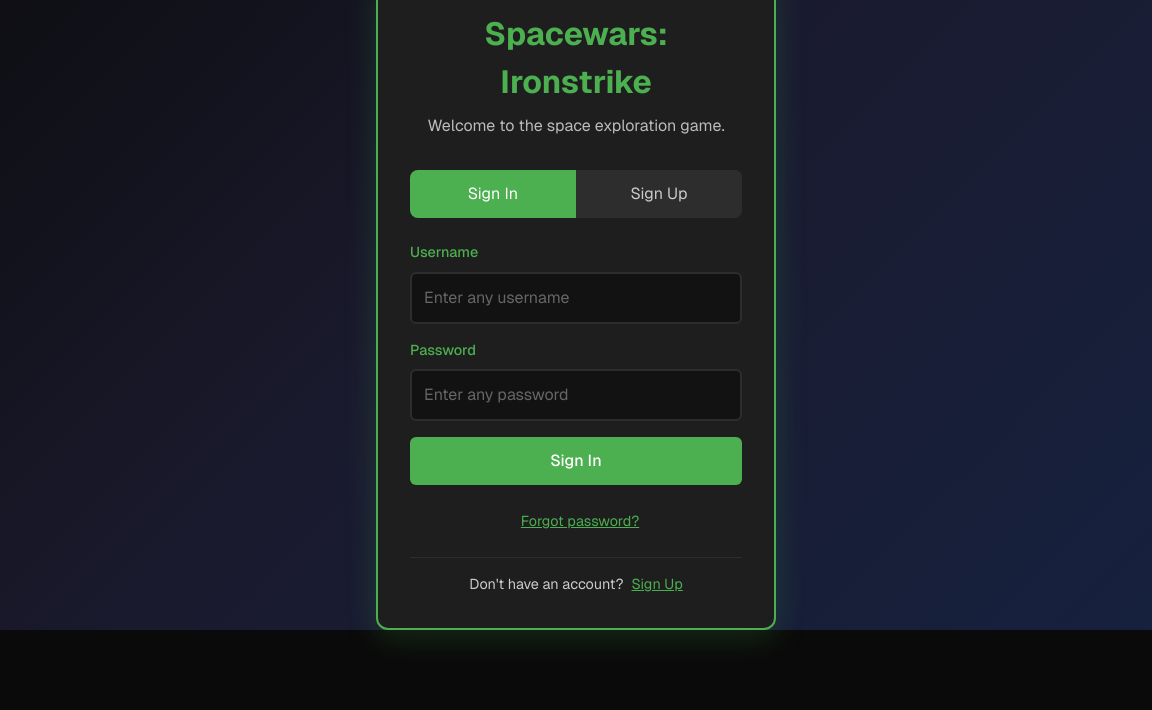
Scenario: LoginPageComponent — forgot-password flow › forgotPassword_backToSignIn_restoresLoginForm
The width and height of the screenshot is (1152, 710).
(page scrolled)
Click the button "Forgot password?" at (580, 522), box [521,511,639,533]
(page scrolled)
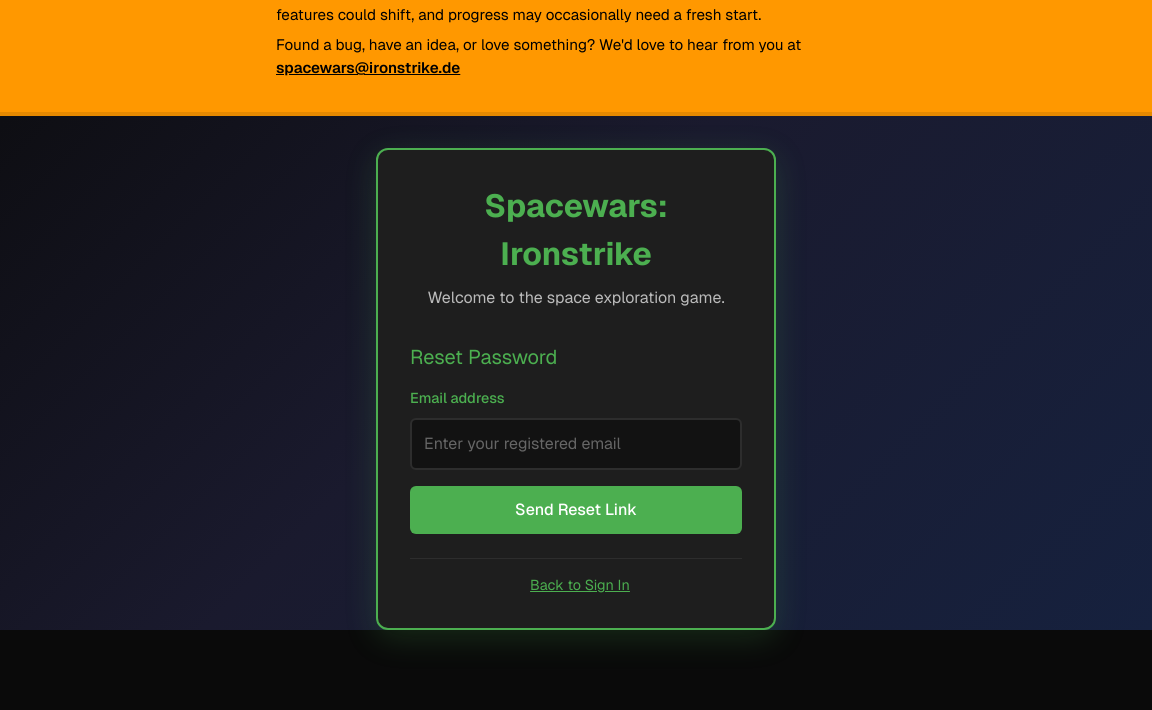
Click the button "Back to Sign In" at (580, 585), box [530,575,630,596]
(page scrolled)
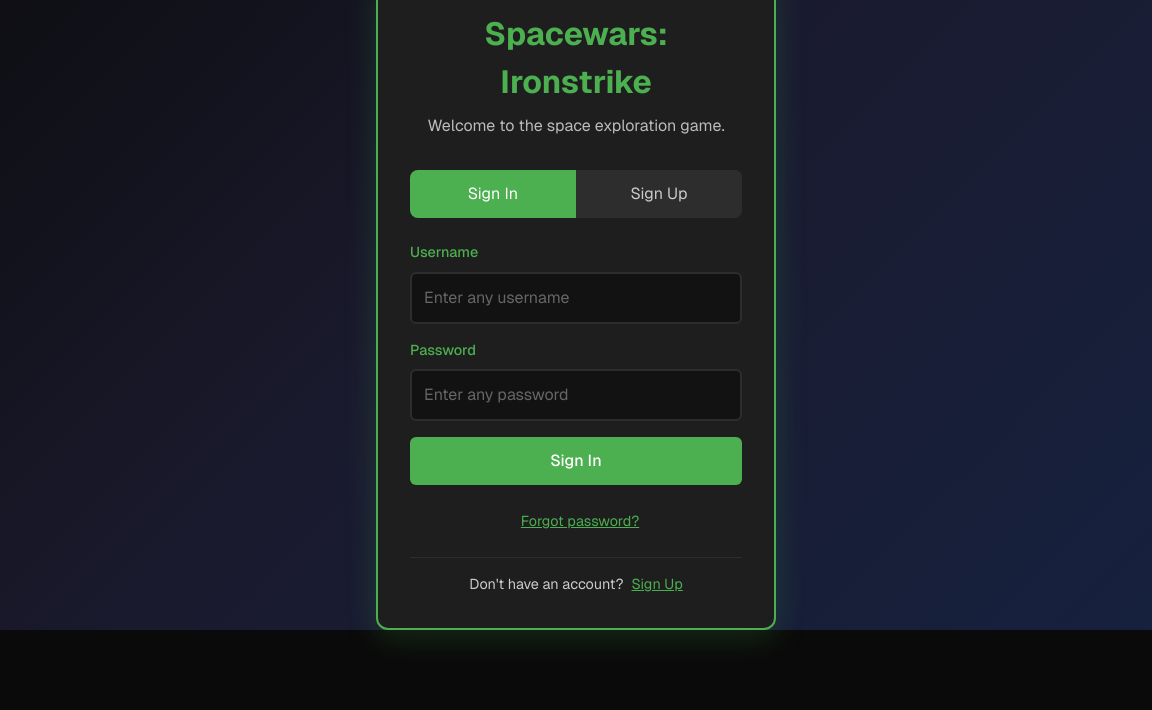
Result: the field labelled "Username" is shown at [410,272,742,324]
